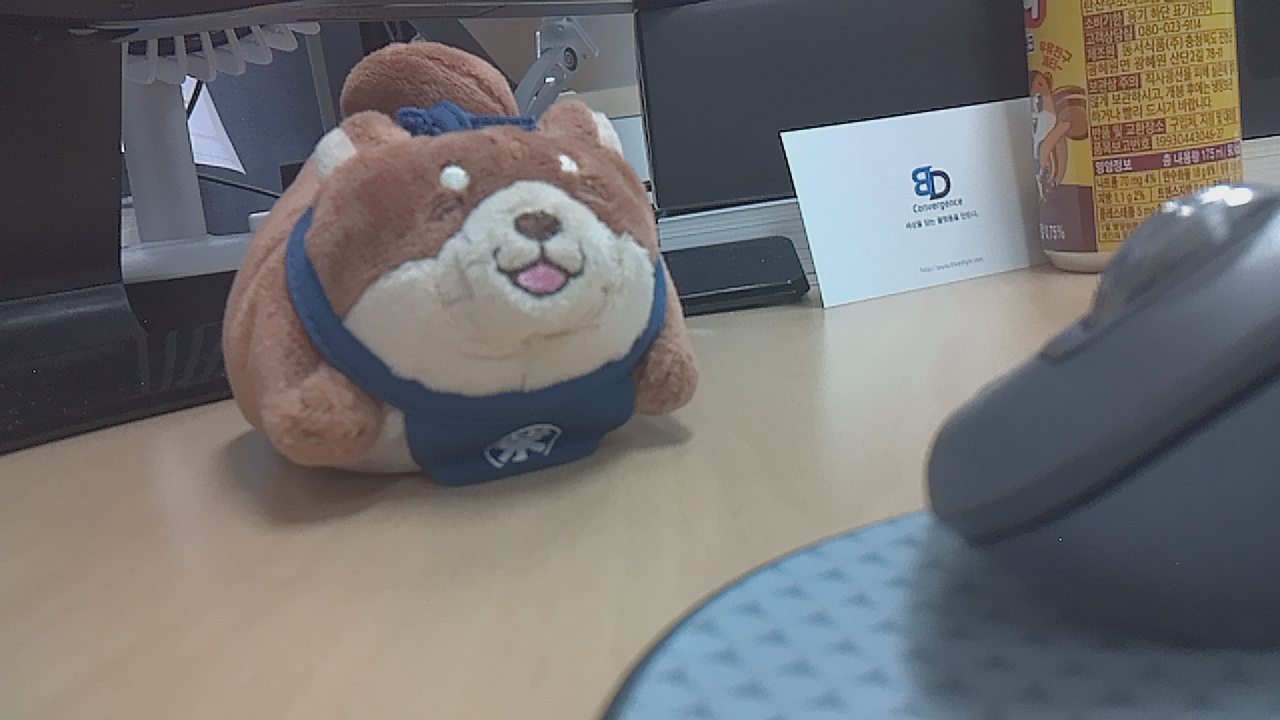cuteDog: (191, 61, 702, 499)
